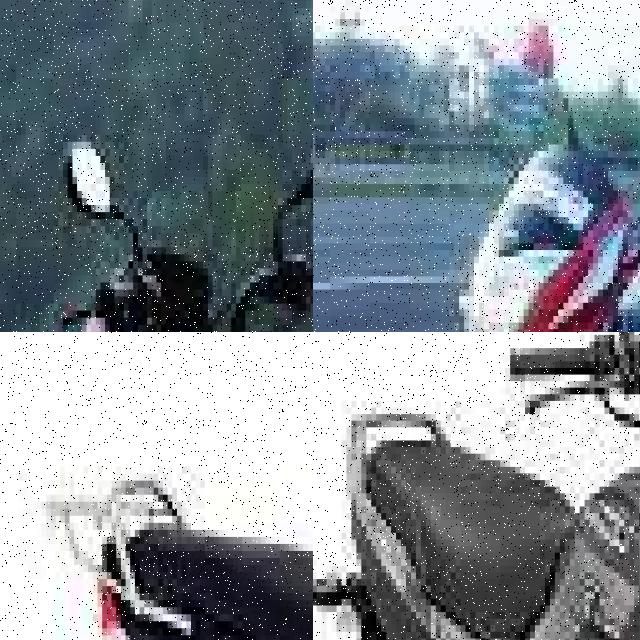bike: (313, 332, 640, 640), (41, 347, 313, 640), (313, 118, 640, 332), (0, 191, 313, 332)
